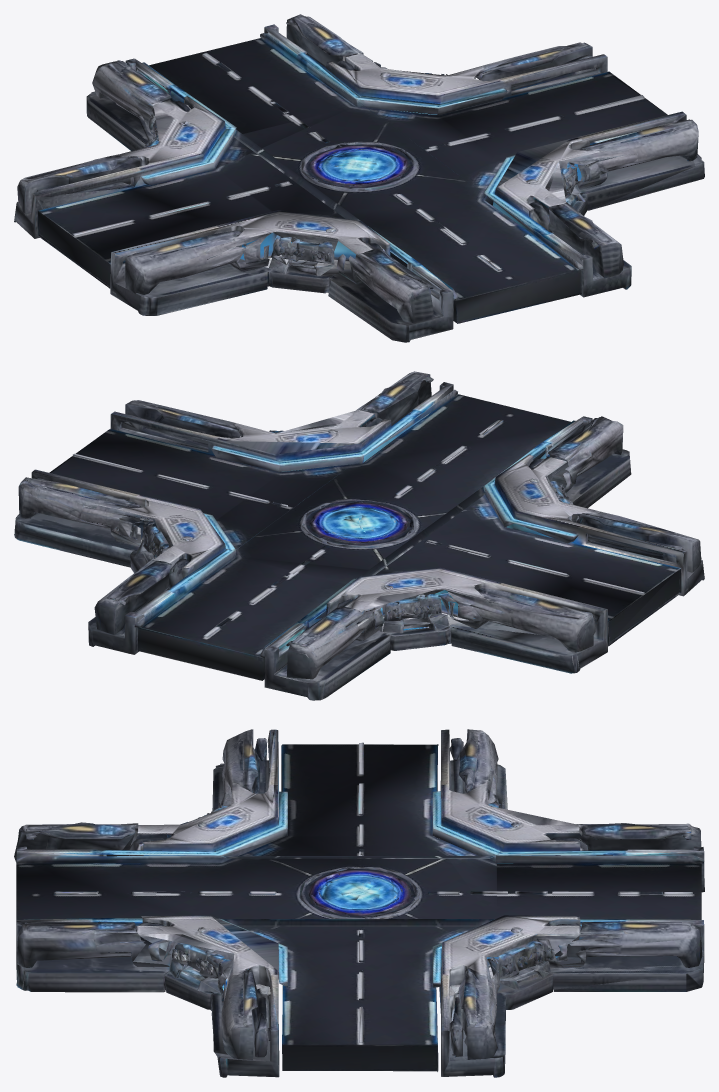
Rendered from crossroads.glb.
3 views of the same model, one above another, from view 1: azimuth 30°, elevation 25°; view 2: azimuth 150°, elevation 25°; view 3: azimuth 270°, elevation 25° (orthographic). The views are drawn at different scales.
Size of the model in its own units: 0.9556 by 0.0815 by 0.9254.
1 material, 1 textured.
